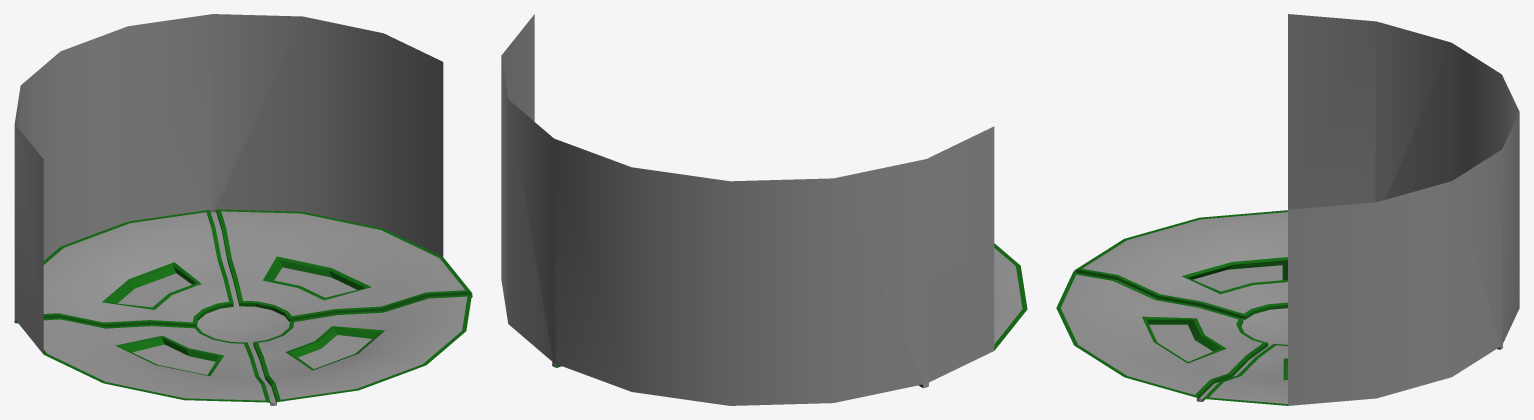
File: Dest_PoisonFactory_Field.FBX
3 views of the same model, side by side, from view 1: azimuth 30°, elevation 25°; view 2: azimuth 150°, elevation 25°; view 3: azimuth 270°, elevation 25° (orthographic). The views are drawn at different scales.
Parts seen in each view (by area): view 1: OilTank001; view 2: OilTank001; view 3: OilTank001.
Part boxes in pixels (x1,y1,x2,y2): OilTank001: (14,14,472,405); OilTank001: (501,14,1027,405); OilTank001: (1056,14,1519,405).
Bounding box in the file's own units: 150 × 79.56 × 150.
